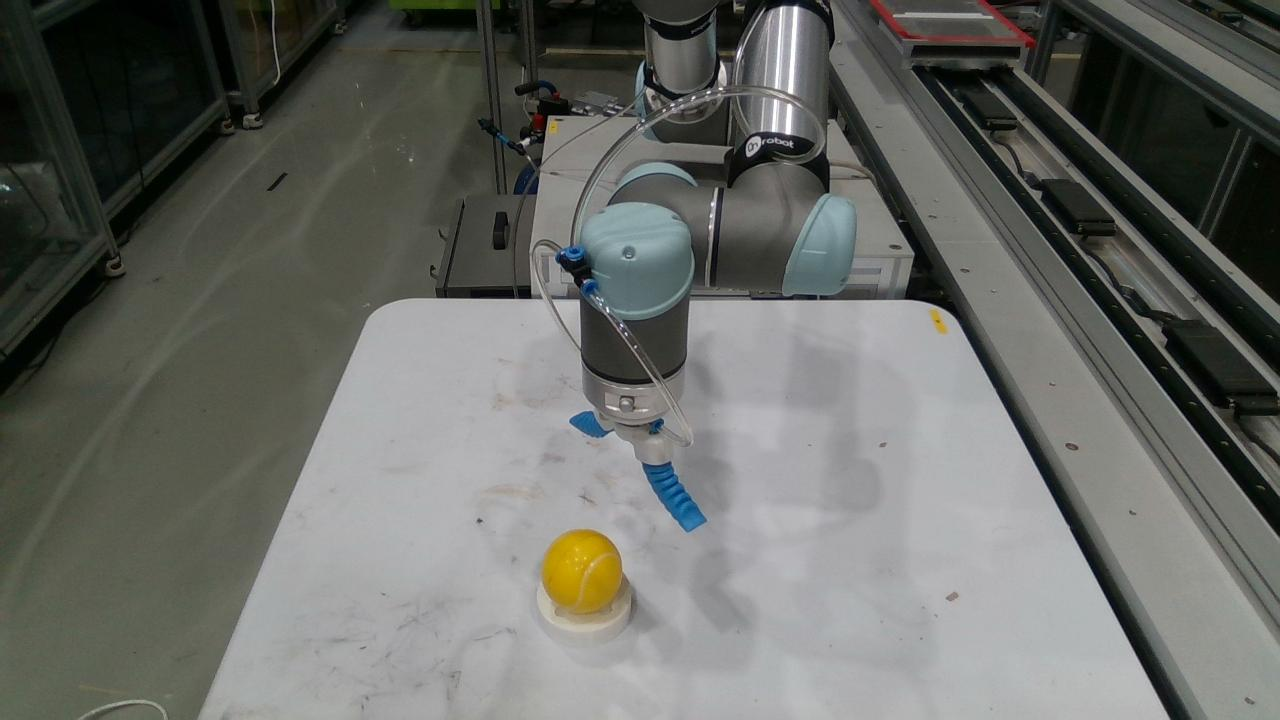UR5: (581, 0, 857, 466)
gripper_left: (569, 410, 611, 438)
gripper_right: (642, 462, 706, 532)
target: (541, 529, 623, 614), (536, 576, 633, 645)
